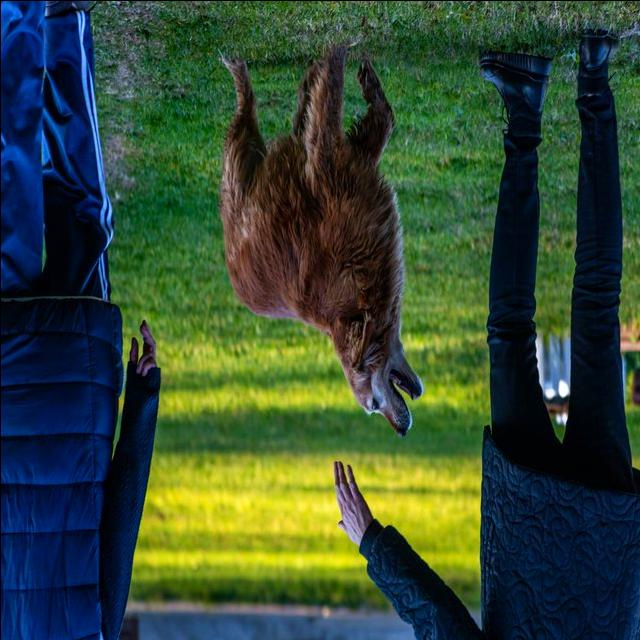retriever: (217, 38, 425, 438)
